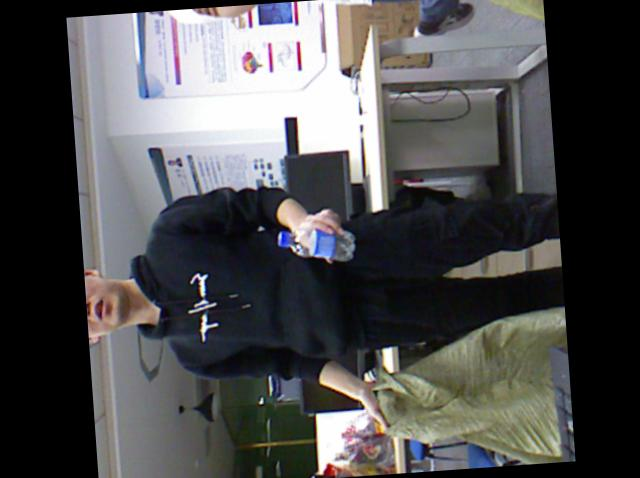plastic: (277, 228, 354, 261)
